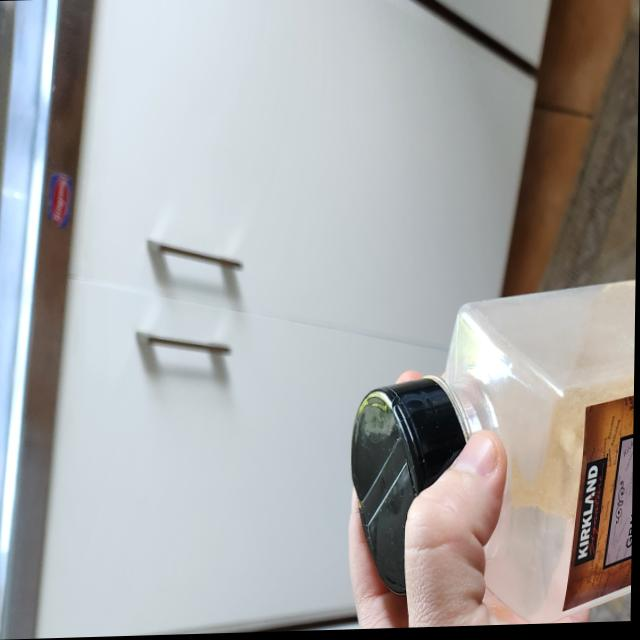garlic: (348, 277, 637, 631)
